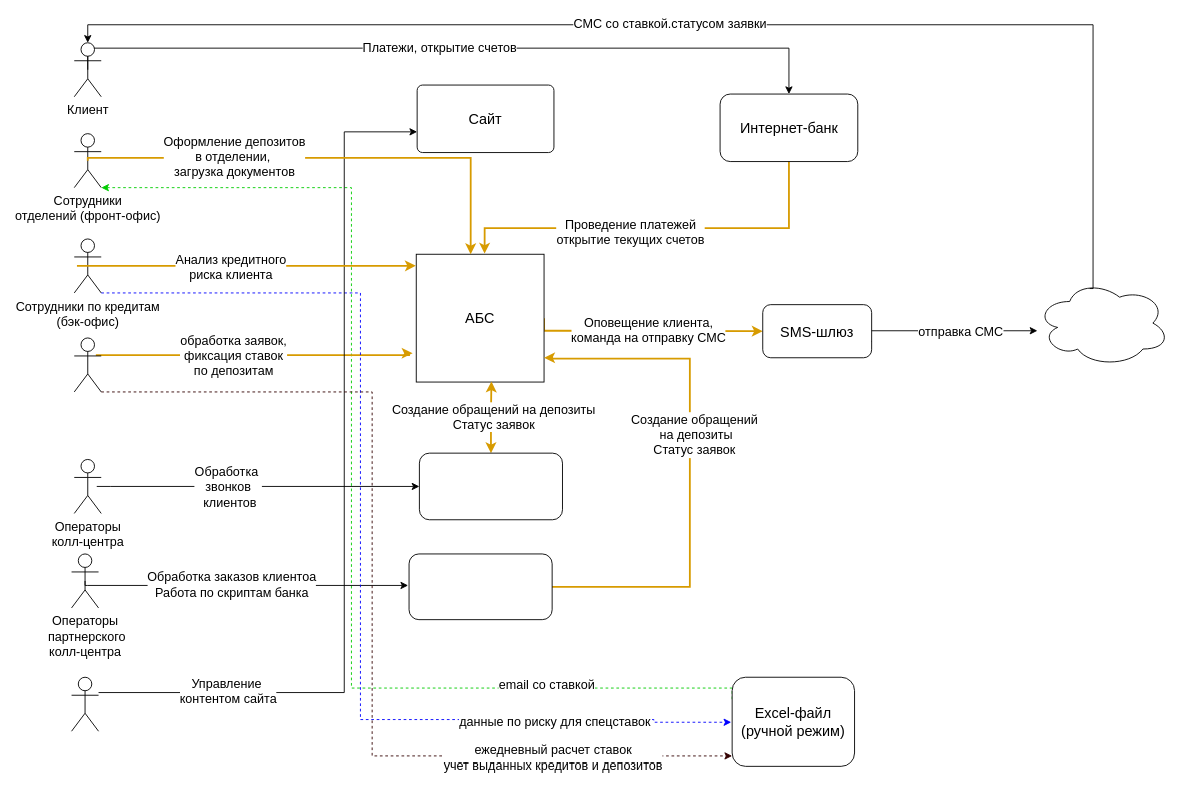
Some shapes in this 1185 by 788 pixel diagram are drawn without their labels. Here are the shapes that lost their labels. From the top down, the centre of each, then its label:
At [1102,322]: "Телеком оператор".
At [87,364]: "Сотрудники по депозитам (бэк-офис)".
At [490,486]: "Колл-центр банка".
At [480,586]: "Партнерский колл-центр".
At [85,703]: "IT - команда".
